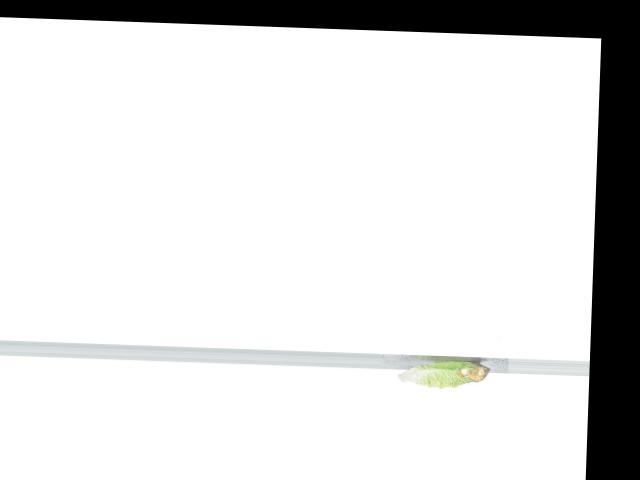lettuce: (396, 354, 494, 393)
